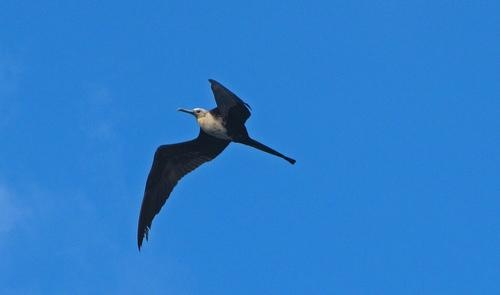bird: (135, 78, 299, 251)
